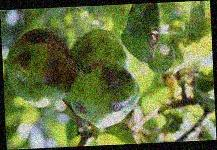rotten apple: (5, 23, 77, 107), (66, 58, 145, 129)
